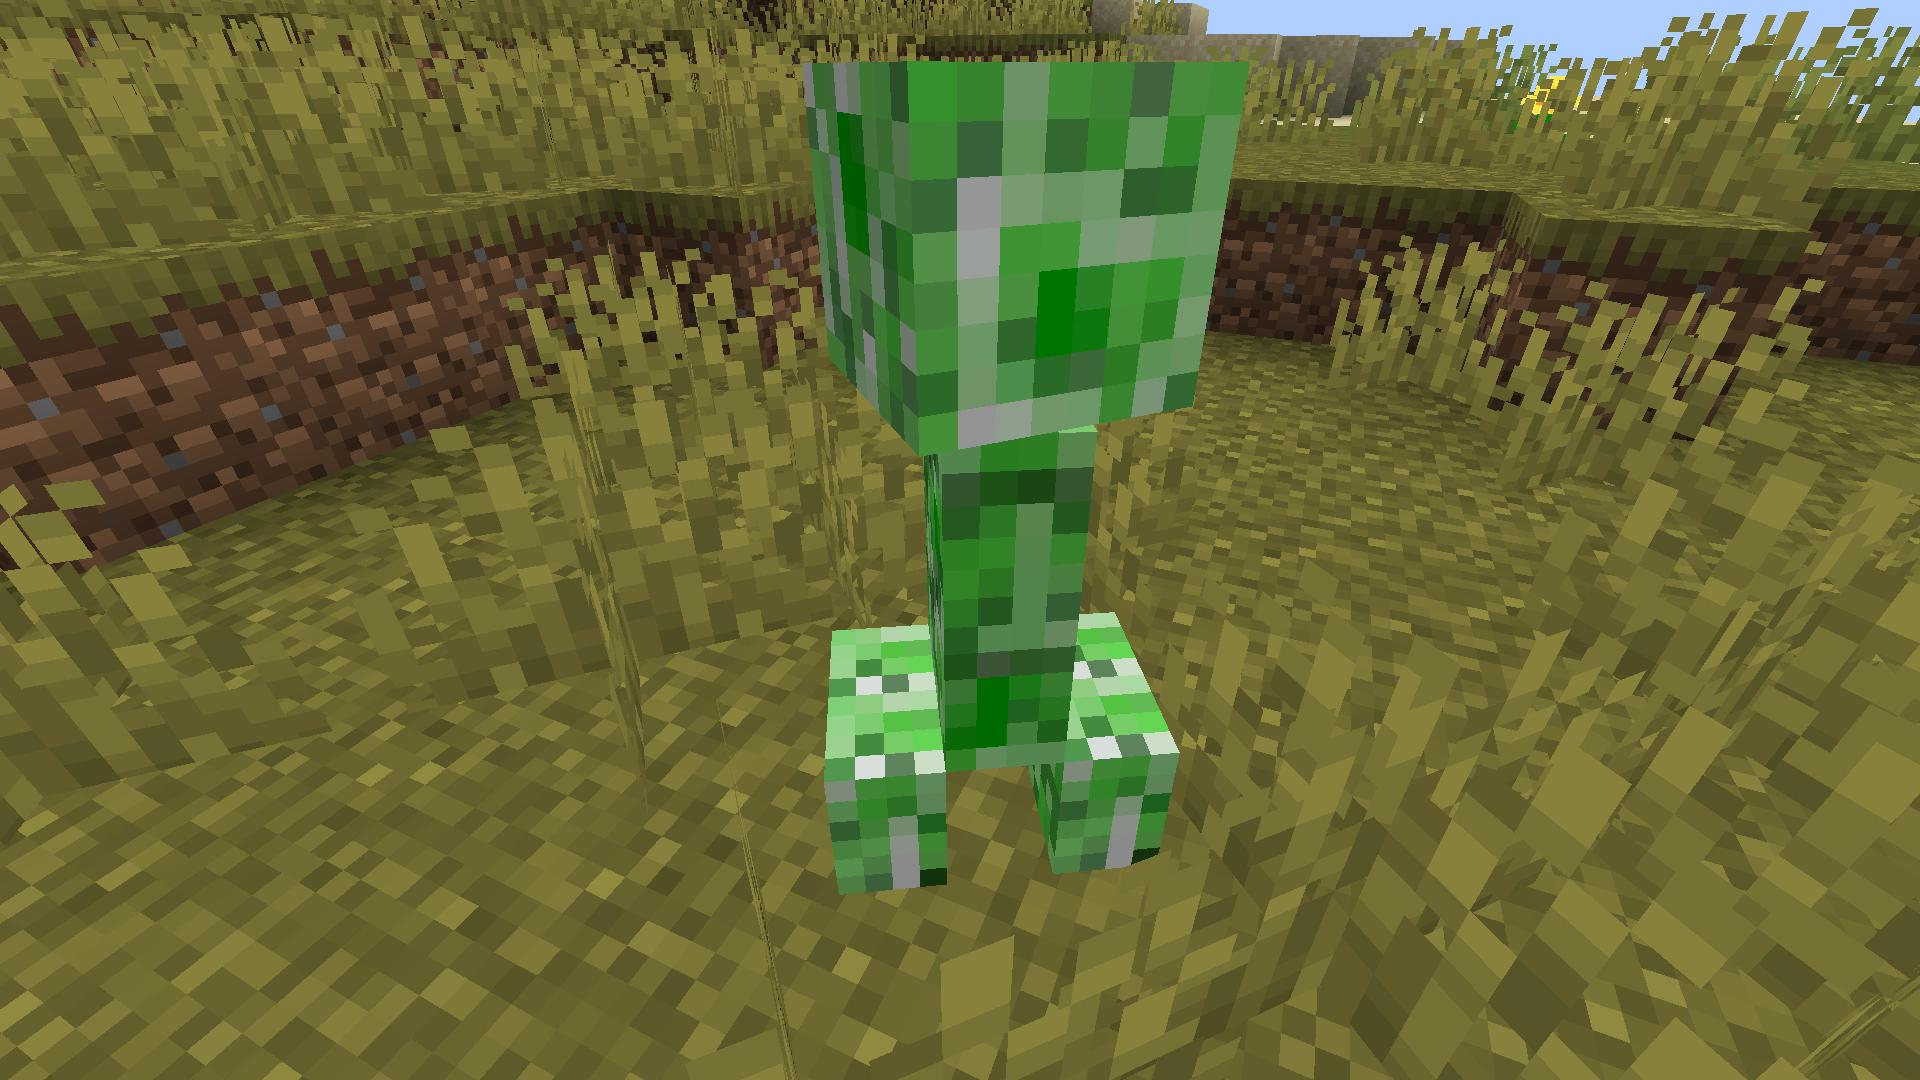creeper: (789, 42, 1261, 899)
